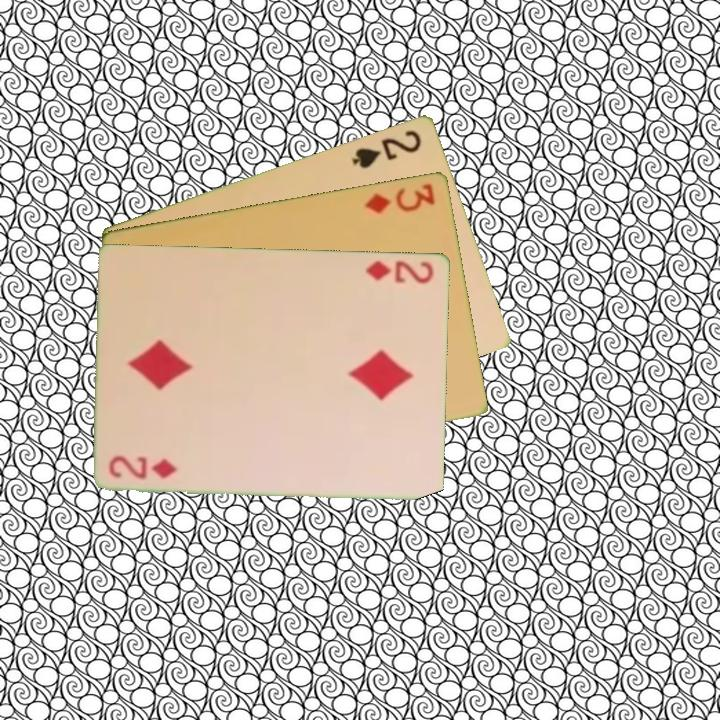2d: (362, 256, 437, 286), (106, 453, 180, 482)
2s: (348, 126, 425, 171)
3d: (361, 179, 438, 216)
